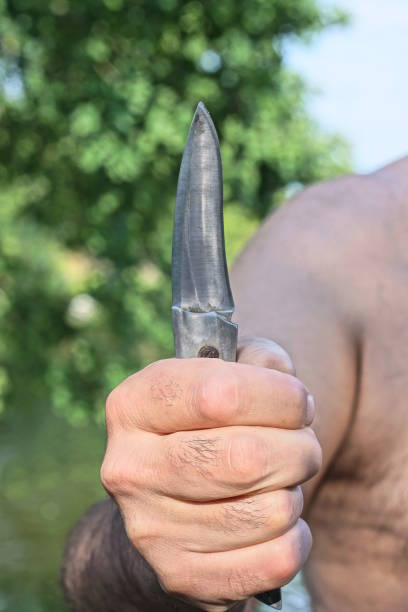knife: (167, 97, 239, 363)
